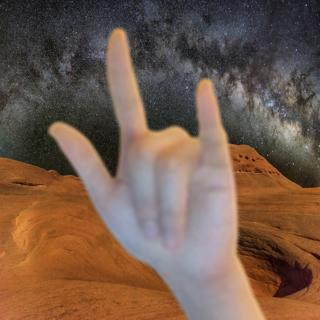ILY: (37, 23, 248, 278)
